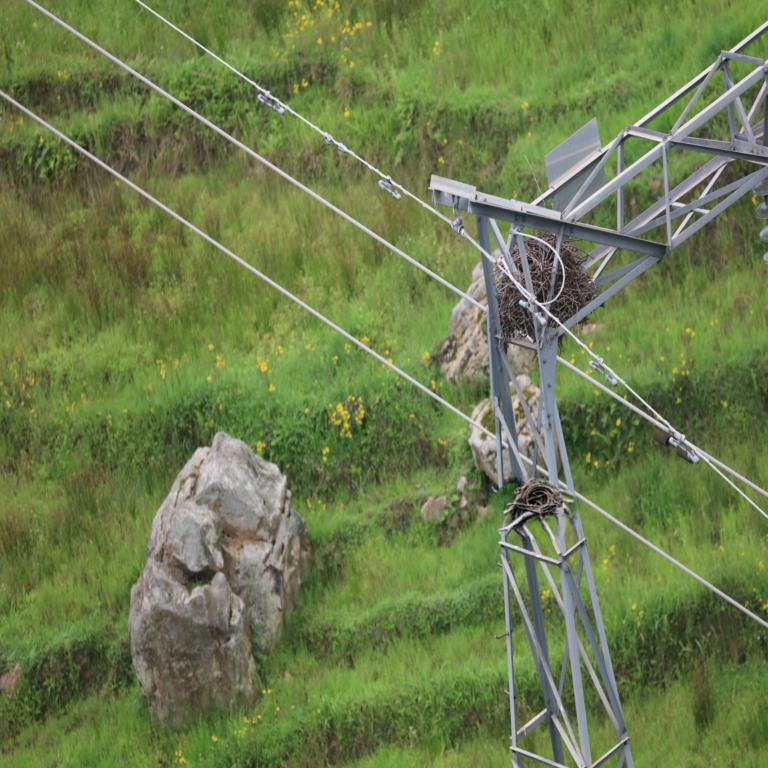nest: (495, 241, 592, 333)
